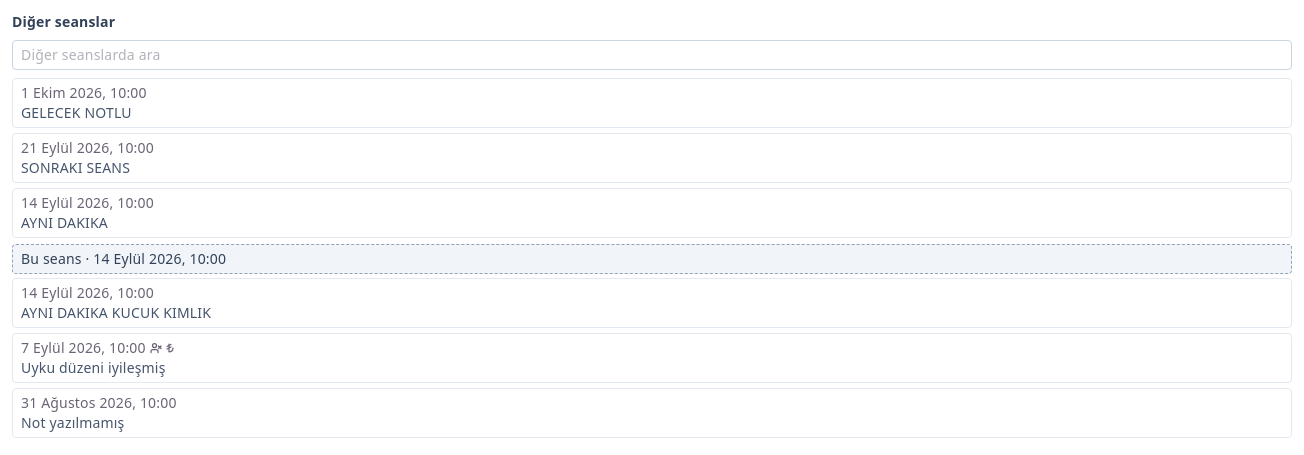
Test: DigerSeanslar (tasarım N5-N9, 2026-09-27 değişikliği) › 8.2 N6: arama gecikmeli; tek harf istek atmaz; terim sunucuya, kesme (`once`) GİTMEZ; parçada terim vurgulu
In the search field labelled "Diğer seanslarda ara": (652, 55) [12,40,1292,70], type "k"
Wait 1000 ms
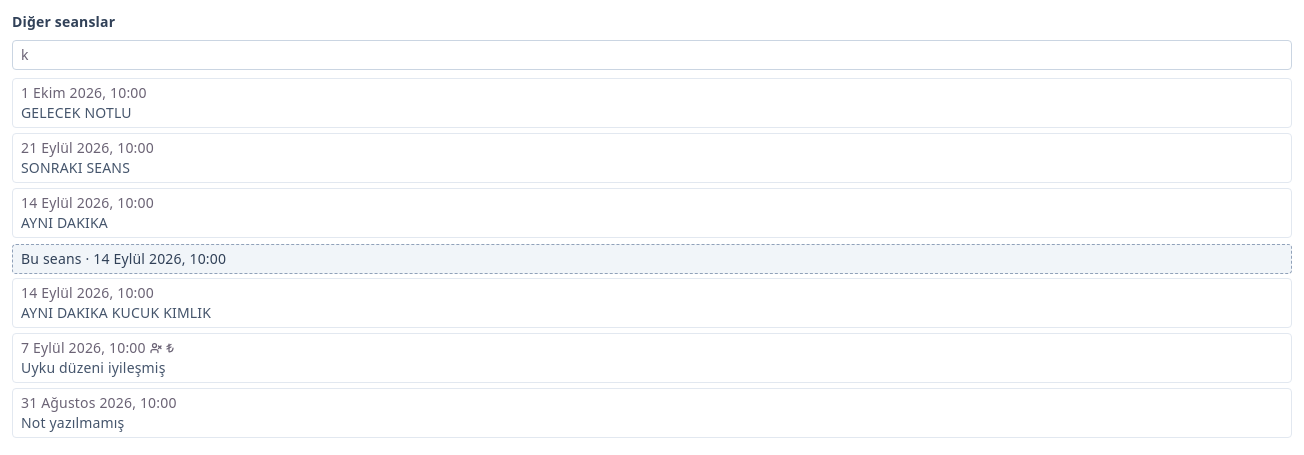
Replace the text in the search field named "Diğer seanslarda ara" with "kaygı": (652, 55) [12,40,1292,70]
Wait 300 ms
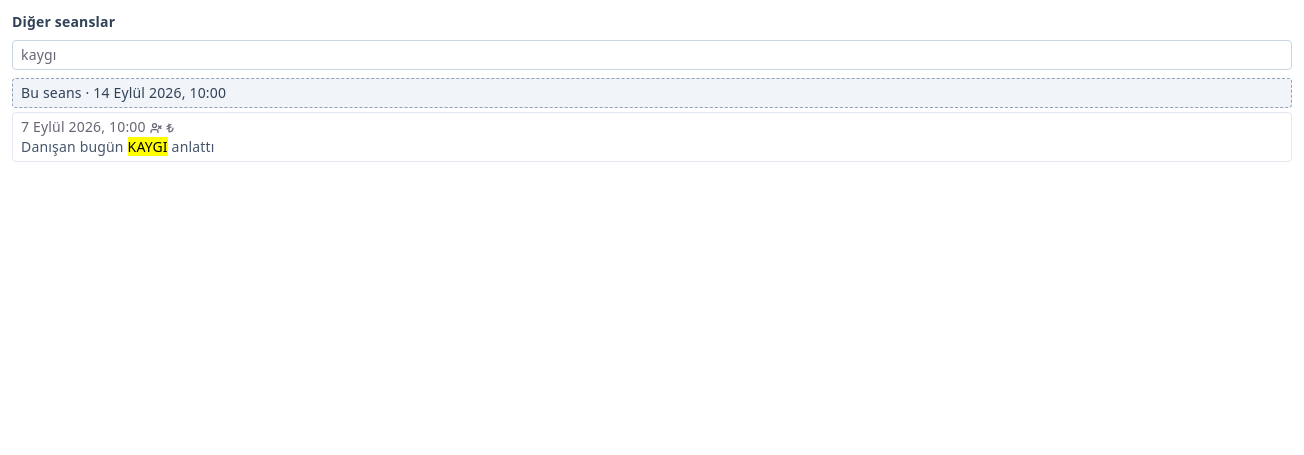
Expected: the element named "Gelmedi" is shown, [150,122,162,134]
Now the text "KAYGI" is shown, box [128,137,168,156]
